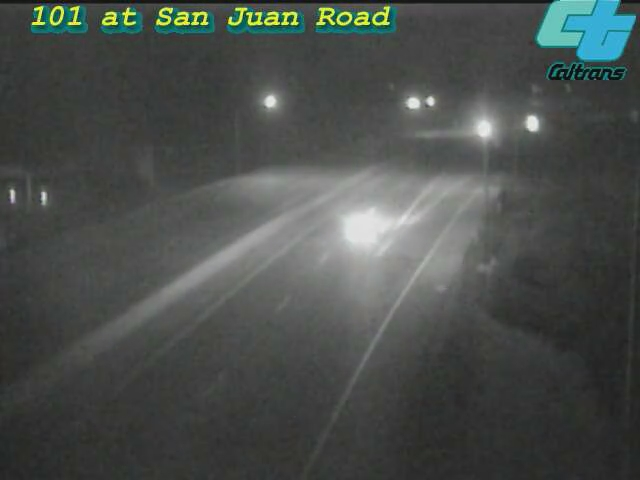vehicle: (324, 184, 404, 264), (454, 104, 504, 154), (504, 99, 554, 149)
